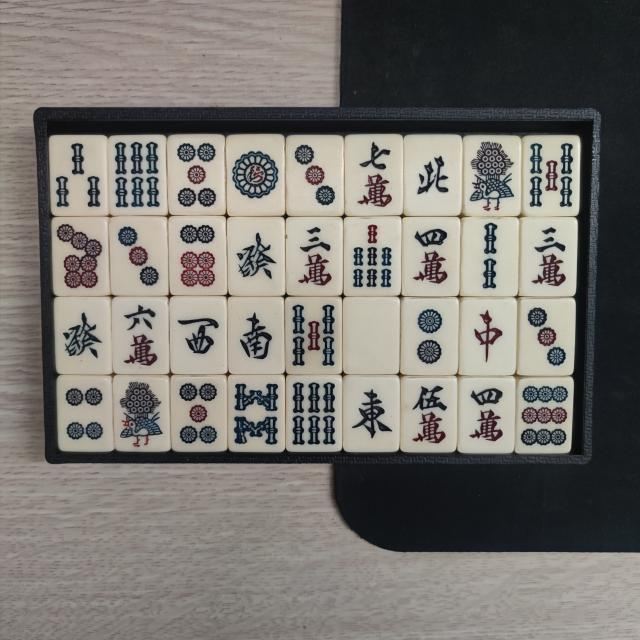hdg: (230, 222, 280, 290), (59, 300, 106, 367)
hdr: (466, 304, 513, 372)
hdw: (349, 304, 394, 371)
hwe: (348, 382, 396, 448)
hwn: (407, 138, 457, 210)
hws: (232, 301, 278, 368)
hww: (173, 302, 223, 368)
sb1: (467, 138, 517, 213), (118, 378, 166, 450)
sb2: (466, 219, 515, 294)
sb3: (53, 139, 103, 212)
sb5: (525, 140, 575, 212), (288, 300, 338, 370)
sb6: (112, 138, 164, 212), (290, 379, 340, 448)
sb7: (348, 221, 398, 292)
sb8: (232, 380, 282, 449)
sc3: (526, 221, 572, 295), (292, 221, 336, 291)
sc4: (406, 222, 454, 292), (466, 382, 510, 448)
sc5: (408, 383, 452, 447)
sc6: (116, 302, 164, 369)
sc7: (350, 136, 398, 212)
sd1: (230, 139, 282, 212)
sd2: (408, 302, 454, 370)
sd3: (290, 138, 340, 212), (112, 222, 164, 288), (524, 304, 570, 372)
sd4: (62, 380, 109, 448)
sd5: (170, 138, 220, 210), (176, 380, 223, 448)
sd6: (173, 221, 223, 290)
sd7: (54, 221, 104, 291)
sd9: (520, 382, 570, 450)
